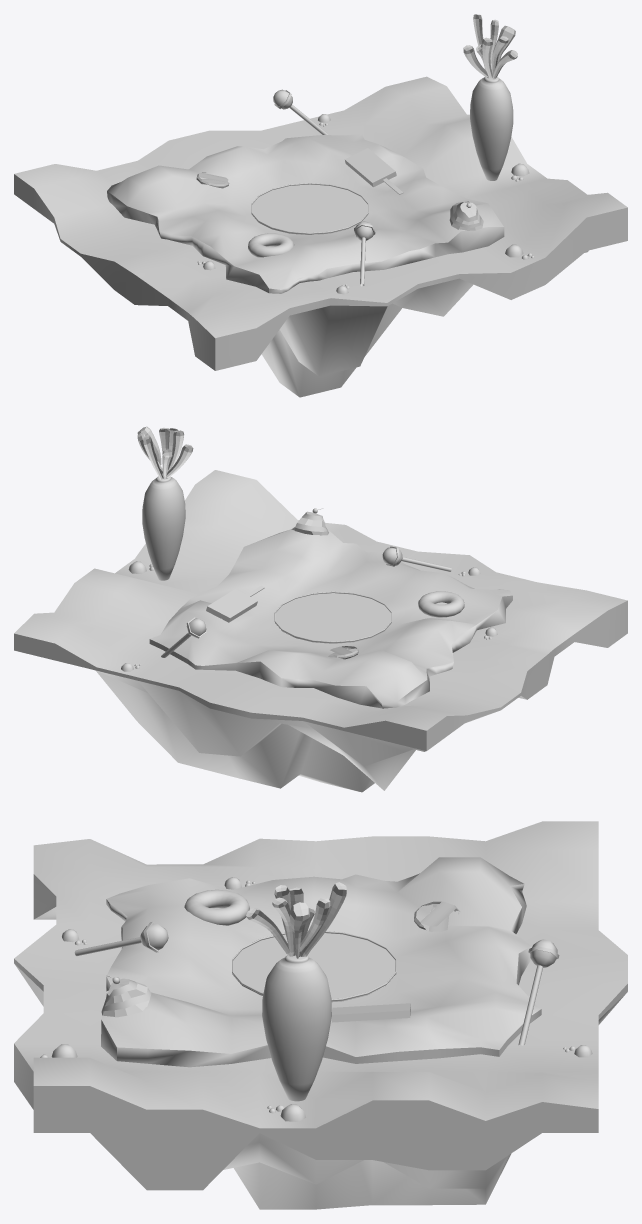
Rendered from ScenceThree_Center.fbx.
3 renders of one model, top to bottom at view 1: azimuth 30°, elevation 25°; view 2: azimuth 150°, elevation 25°; view 3: azimuth 270°, elevation 25°, orthographic. The views are drawn at different scales.
Parts seen in each view (by area): view 1: floor1, floor2, site, carrat1, carrat, ice, Torus, pudding, candy, candy001; view 2: floor1, floor2, site, carrat1, carrat, ice, Torus, pudding, candy001, Toru; view 3: floor1, floor2, carrat1, site, carrat, Torus, pudding, ice, candy, candy001, sugurcandy, Toru.
Part boxes in pixels (left/top/right/bottom): floor1: left=14, top=76, right=627, bottom=397; floor2: left=107, top=134, right=504, bottom=293; site: left=251, top=184, right=368, bottom=234; carrat1: left=470, top=76, right=513, bottom=180; carrat: left=463, top=14, right=517, bottom=79; ice: left=344, top=148, right=403, bottom=194; Torus: left=248, top=233, right=294, bottom=257; pudding: left=449, top=201, right=483, bottom=230; candy: left=273, top=89, right=328, bottom=134; candy001: left=354, top=221, right=375, bottom=286; floor1: left=14, top=470, right=627, bottom=792; floor2: left=149, top=529, right=512, bottom=708; site: left=275, top=593, right=391, bottom=643; carrat1: left=142, top=475, right=185, bottom=580; carrat: left=137, top=426, right=193, bottom=479; ice: left=206, top=585, right=264, bottom=622; Torus: left=418, top=591, right=464, bottom=617; pudding: left=291, top=508, right=328, bottom=535; candy001: left=382, top=546, right=451, bottom=571; Toru: left=274, top=591, right=391, bottom=642; floor1: left=14, top=821, right=627, bottom=1209; floor2: left=101, top=857, right=541, bottom=1067; carrat1: left=262, top=955, right=331, bottom=1101; site: left=232, top=933, right=396, bottom=1002; carrat: left=246, top=882, right=346, bottom=958; Torus: left=184, top=889, right=249, bottom=925; pudding: left=101, top=975, right=151, bottom=1017; ice: left=332, top=1003, right=410, bottom=1022; candy: left=518, top=939, right=559, bottom=1045; candy001: left=74, top=921, right=168, bottom=955; sugurcandy: left=414, top=901, right=460, bottom=931; Toru: left=232, top=931, right=396, bottom=1001.
Bounding box in the file's own units: 23560 × 16503 × 20911.
